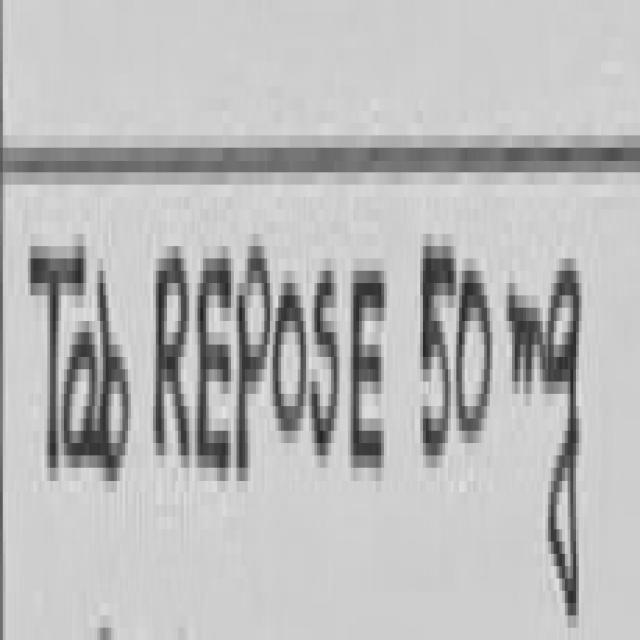0: (459, 271, 493, 443)
5: (426, 246, 456, 449)
E: (198, 258, 231, 468), (353, 271, 387, 468)
O: (275, 283, 306, 431)
P: (239, 246, 270, 480)
R: (156, 258, 189, 455)
S: (312, 271, 339, 455)
T: (31, 246, 82, 468)
a: (64, 332, 97, 468)
b: (97, 271, 128, 480)
g: (548, 271, 582, 615)
m: (509, 295, 545, 394)
